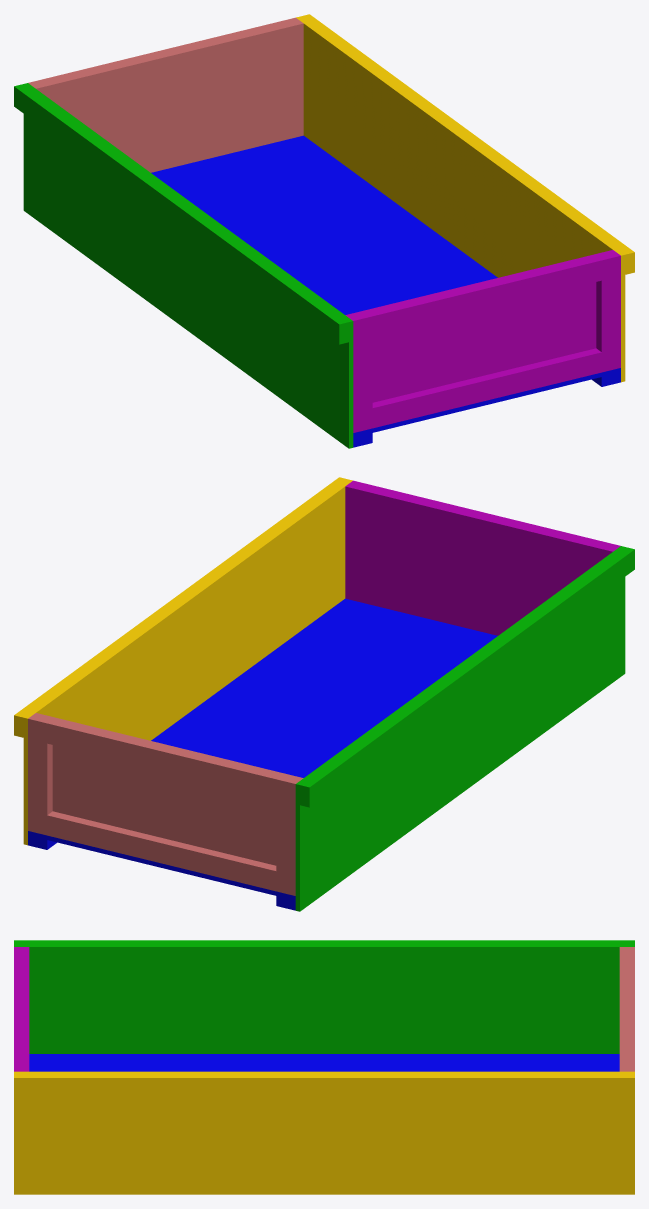
File: result.glb
3 views of the same model, one above another, from view 1: azimuth 30°, elevation 25°; view 2: azimuth 150°, elevation 25°; view 3: azimuth 270°, elevation 25° (orthographic). The views are drawn at different scales.
Visible parts, largest first — view 1: 661fe82e-5fe7-4692-a86e-12ed211b249f__Box_6, 4be57a64-cb5f-4bb9-b3ce-20771eb2a3c4__Box, e6b14394-9fa3-4a06-b276-575f0ca5377e__undefined, 93d701b4-0ed1-4925-9448-000228e5d4b3__undefined, a406cf5c-90e8-4adc-ad75-6d87620b9b9d__Box_3, 5c65d674-4480-45a6-bddb-3580127f38bf__Box_7, bcea28dd-51f2-4f1e-bec7-99aed0a1e6df__undefined, d1c9de97-bf86-4a89-8e89-8c0a80d6ec70__Box_5, 106e49cd-2453-4aff-89bb-3b9669035392__undefined, c8acac38-196d-496f-a3ce-d9d5eac65801__undefined, 113a2ddc-efde-4754-adec-da70cbe819a9__Box_4, a45708b1-97db-4420-b171-d99271cfc70f__undefined; view 2: 661fe82e-5fe7-4692-a86e-12ed211b249f__Box_6, 4be57a64-cb5f-4bb9-b3ce-20771eb2a3c4__Box, e6b14394-9fa3-4a06-b276-575f0ca5377e__undefined, a406cf5c-90e8-4adc-ad75-6d87620b9b9d__Box_3, 93d701b4-0ed1-4925-9448-000228e5d4b3__undefined, 5c65d674-4480-45a6-bddb-3580127f38bf__Box_7, a45708b1-97db-4420-b171-d99271cfc70f__undefined, 4e15ff2e-b753-48b5-8307-452f40242265__undefined, 106e49cd-2453-4aff-89bb-3b9669035392__undefined, b5d68bff-94c5-471d-ad36-760785834d66__undefined, 068058b5-698d-496e-a961-3f19233a37d8__undefined, bcea28dd-51f2-4f1e-bec7-99aed0a1e6df__undefined; view 3: 661fe82e-5fe7-4692-a86e-12ed211b249f__Box_6, e6b14394-9fa3-4a06-b276-575f0ca5377e__undefined, 106e49cd-2453-4aff-89bb-3b9669035392__undefined, 4be57a64-cb5f-4bb9-b3ce-20771eb2a3c4__Box, 5c65d674-4480-45a6-bddb-3580127f38bf__Box_7, bcea28dd-51f2-4f1e-bec7-99aed0a1e6df__undefined, a45708b1-97db-4420-b171-d99271cfc70f__undefined, a406cf5c-90e8-4adc-ad75-6d87620b9b9d__Box_3, 93d701b4-0ed1-4925-9448-000228e5d4b3__undefined.
Boxes of the visible parts, x1,y1,x2,y2 form: 661fe82e-5fe7-4692-a86e-12ed211b249f__Box_6: [23, 83, 353, 448]; 4be57a64-cb5f-4bb9-b3ce-20771eb2a3c4__Box: [151, 135, 620, 437]; e6b14394-9fa3-4a06-b276-575f0ca5377e__undefined: [296, 16, 625, 382]; 93d701b4-0ed1-4925-9448-000228e5d4b3__undefined: [34, 21, 303, 172]; a406cf5c-90e8-4adc-ad75-6d87620b9b9d__Box_3: [345, 250, 614, 402]; 5c65d674-4480-45a6-bddb-3580127f38bf__Box_7: [14, 84, 348, 344]; bcea28dd-51f2-4f1e-bec7-99aed0a1e6df__undefined: [367, 256, 601, 336]; d1c9de97-bf86-4a89-8e89-8c0a80d6ec70__Box_5: [372, 348, 601, 428]; 106e49cd-2453-4aff-89bb-3b9669035392__undefined: [300, 14, 634, 274]; c8acac38-196d-496f-a3ce-d9d5eac65801__undefined: [596, 251, 620, 372]; 113a2ddc-efde-4754-adec-da70cbe819a9__Box_4: [348, 312, 372, 432]; a45708b1-97db-4420-b171-d99271cfc70f__undefined: [47, 22, 281, 81]; 661fe82e-5fe7-4692-a86e-12ed211b249f__Box_6: [295, 546, 625, 911]; 4be57a64-cb5f-4bb9-b3ce-20771eb2a3c4__Box: [28, 598, 497, 900]; e6b14394-9fa3-4a06-b276-575f0ca5377e__undefined: [23, 479, 352, 845]; a406cf5c-90e8-4adc-ad75-6d87620b9b9d__Box_3: [345, 484, 614, 635]; 93d701b4-0ed1-4925-9448-000228e5d4b3__undefined: [34, 713, 303, 865]; 5c65d674-4480-45a6-bddb-3580127f38bf__Box_7: [300, 547, 634, 807]; a45708b1-97db-4420-b171-d99271cfc70f__undefined: [47, 719, 281, 799]; 4e15ff2e-b753-48b5-8307-452f40242265__undefined: [47, 811, 276, 891]; 106e49cd-2453-4aff-89bb-3b9669035392__undefined: [14, 477, 348, 737]; b5d68bff-94c5-471d-ad36-760785834d66__undefined: [28, 714, 52, 835]; 068058b5-698d-496e-a961-3f19233a37d8__undefined: [276, 775, 300, 895]; bcea28dd-51f2-4f1e-bec7-99aed0a1e6df__undefined: [367, 485, 601, 544]; 661fe82e-5fe7-4692-a86e-12ed211b249f__Box_6: [14, 945, 634, 1053]; e6b14394-9fa3-4a06-b276-575f0ca5377e__undefined: [14, 1071, 634, 1194]; 106e49cd-2453-4aff-89bb-3b9669035392__undefined: [14, 1073, 634, 1097]; 4be57a64-cb5f-4bb9-b3ce-20771eb2a3c4__Box: [29, 1054, 619, 1071]; 5c65d674-4480-45a6-bddb-3580127f38bf__Box_7: [14, 940, 634, 944]; bcea28dd-51f2-4f1e-bec7-99aed0a1e6df__undefined: [14, 956, 24, 1062]; a45708b1-97db-4420-b171-d99271cfc70f__undefined: [624, 956, 634, 1062]; a406cf5c-90e8-4adc-ad75-6d87620b9b9d__Box_3: [24, 947, 29, 1071]; 93d701b4-0ed1-4925-9448-000228e5d4b3__undefined: [619, 947, 624, 1071].
Bounding box in the file's own units: 552 × 226 × 1052.
